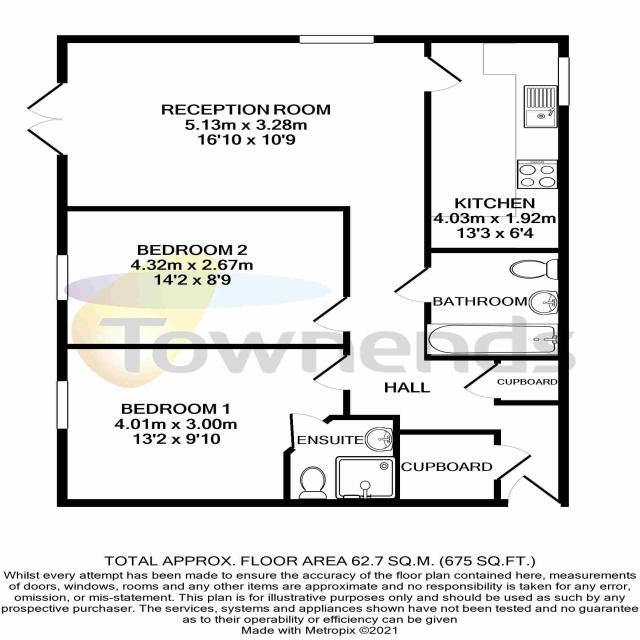DOOR: (505, 472, 569, 507), (307, 291, 353, 335), (307, 351, 353, 395), (288, 411, 332, 450), (424, 54, 465, 95), (391, 264, 432, 304)
DOUBLE DOOR: (24, 79, 72, 154)
ROOM: (57, 344, 350, 507), (56, 206, 351, 349), (423, 35, 569, 253)
WINDOW: (50, 376, 75, 432), (295, 32, 376, 46), (52, 251, 72, 303), (557, 56, 572, 107)
